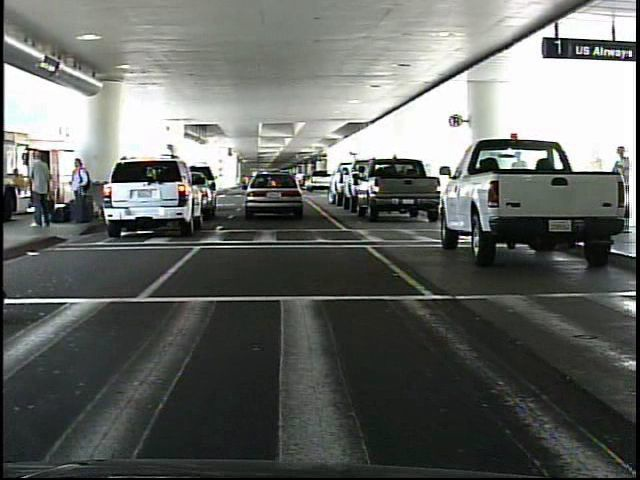person: (604, 141, 632, 232), (25, 150, 54, 228), (66, 156, 90, 226)
